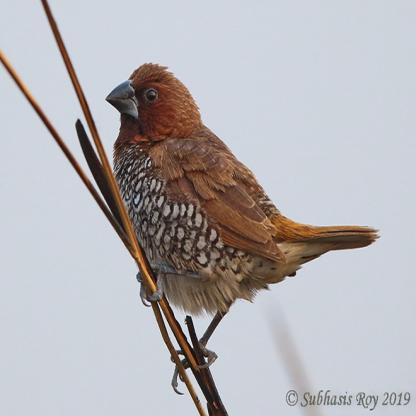Burung: (105, 63, 379, 394)
